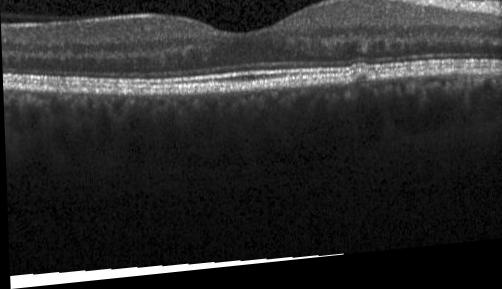retinal_drusen: (354, 79, 369, 90)
